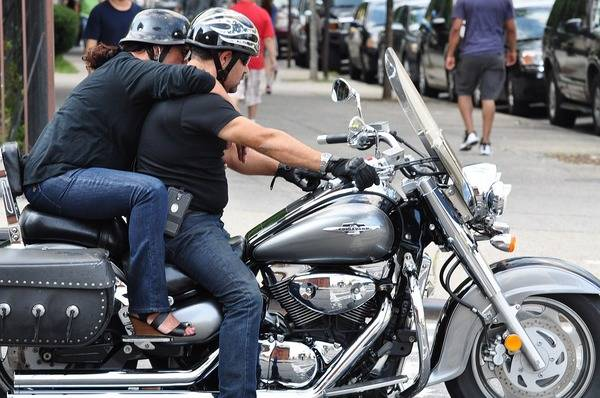with_helmet: (187, 6, 262, 94), (117, 5, 193, 66)
